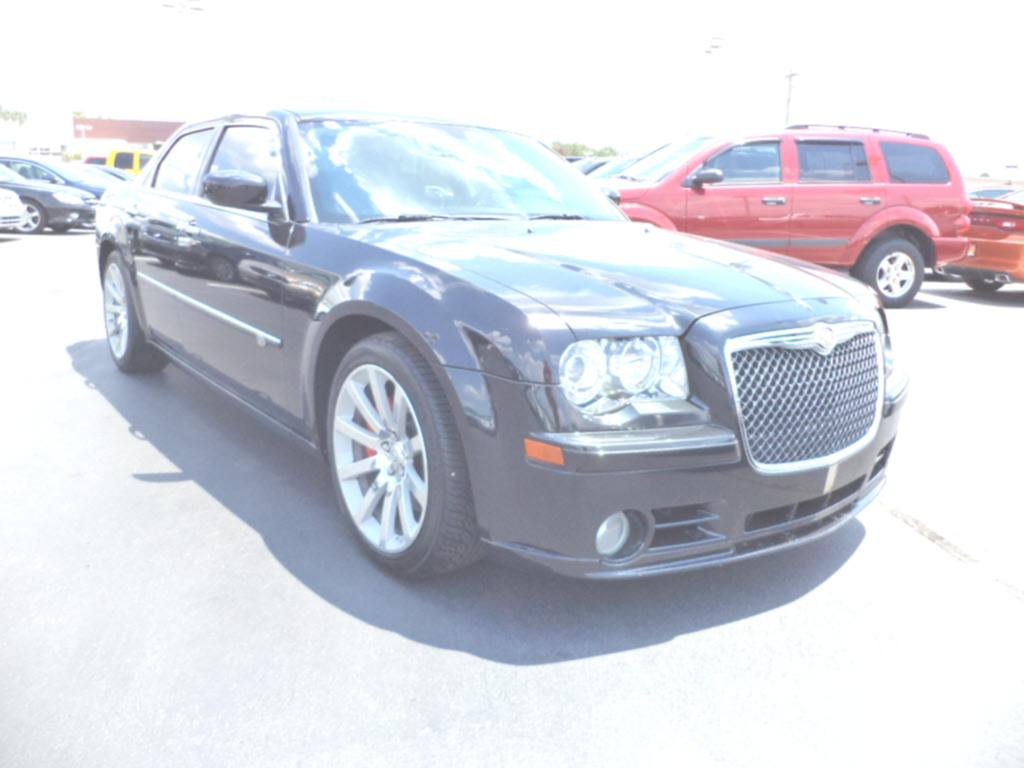Chrysler: (724, 309, 886, 361)
